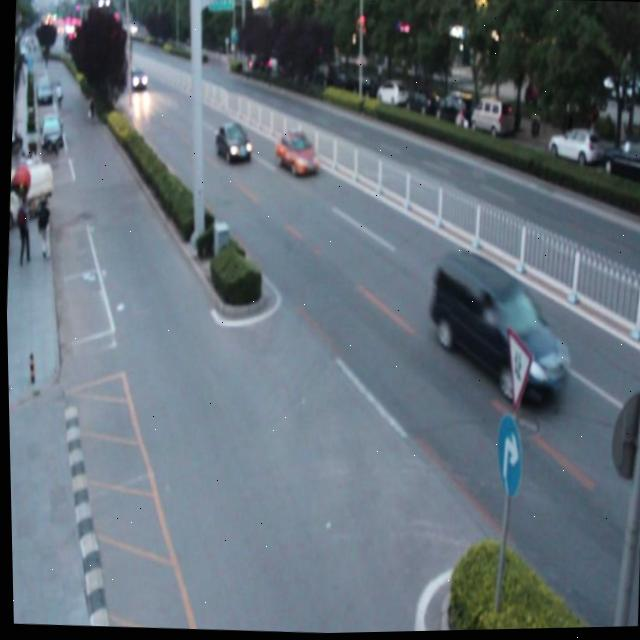car: (273, 129, 321, 178), (213, 120, 253, 165)
truck: (425, 243, 575, 409)
